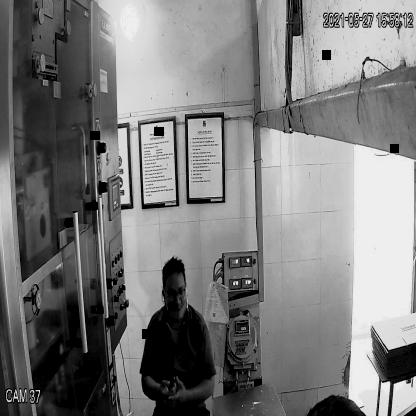goggles: (159, 283, 192, 305)
